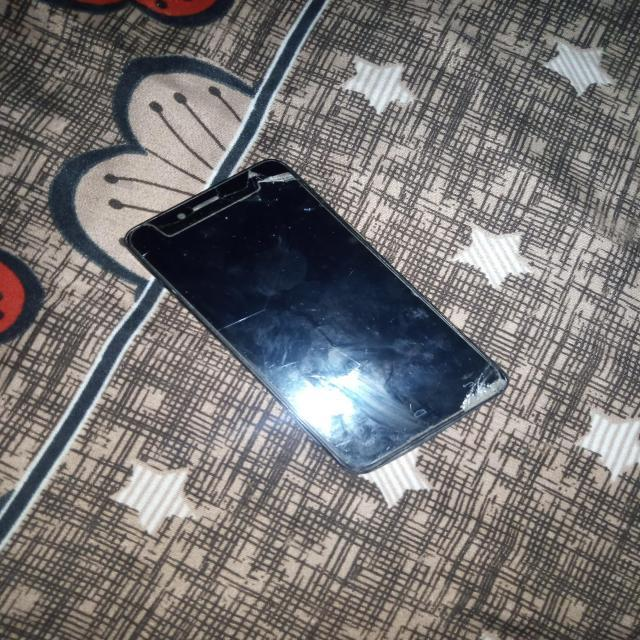cellphone: (60, 145, 570, 504)
